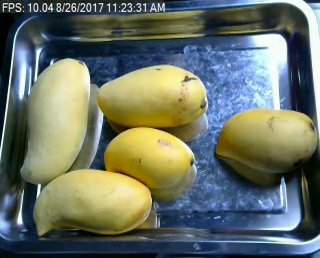Mango: (19, 59, 90, 183), (33, 167, 153, 236), (96, 65, 211, 127), (215, 109, 318, 174), (101, 127, 197, 189)
